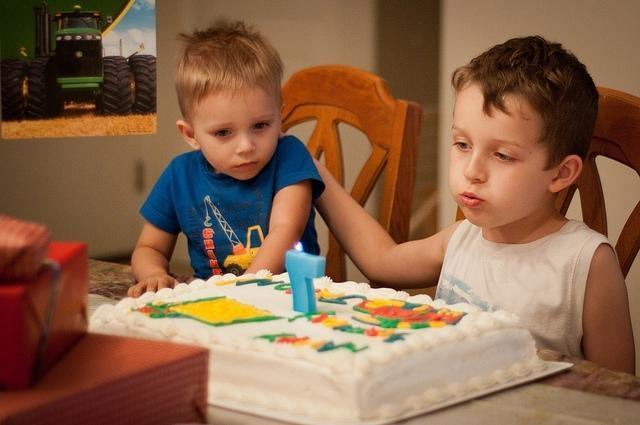truck: (1, 6, 156, 119)
